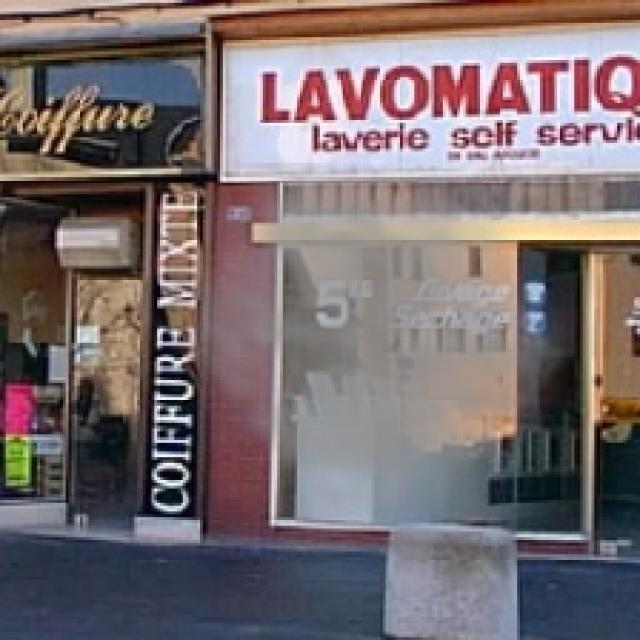Smoke: (160, 162, 586, 558)
